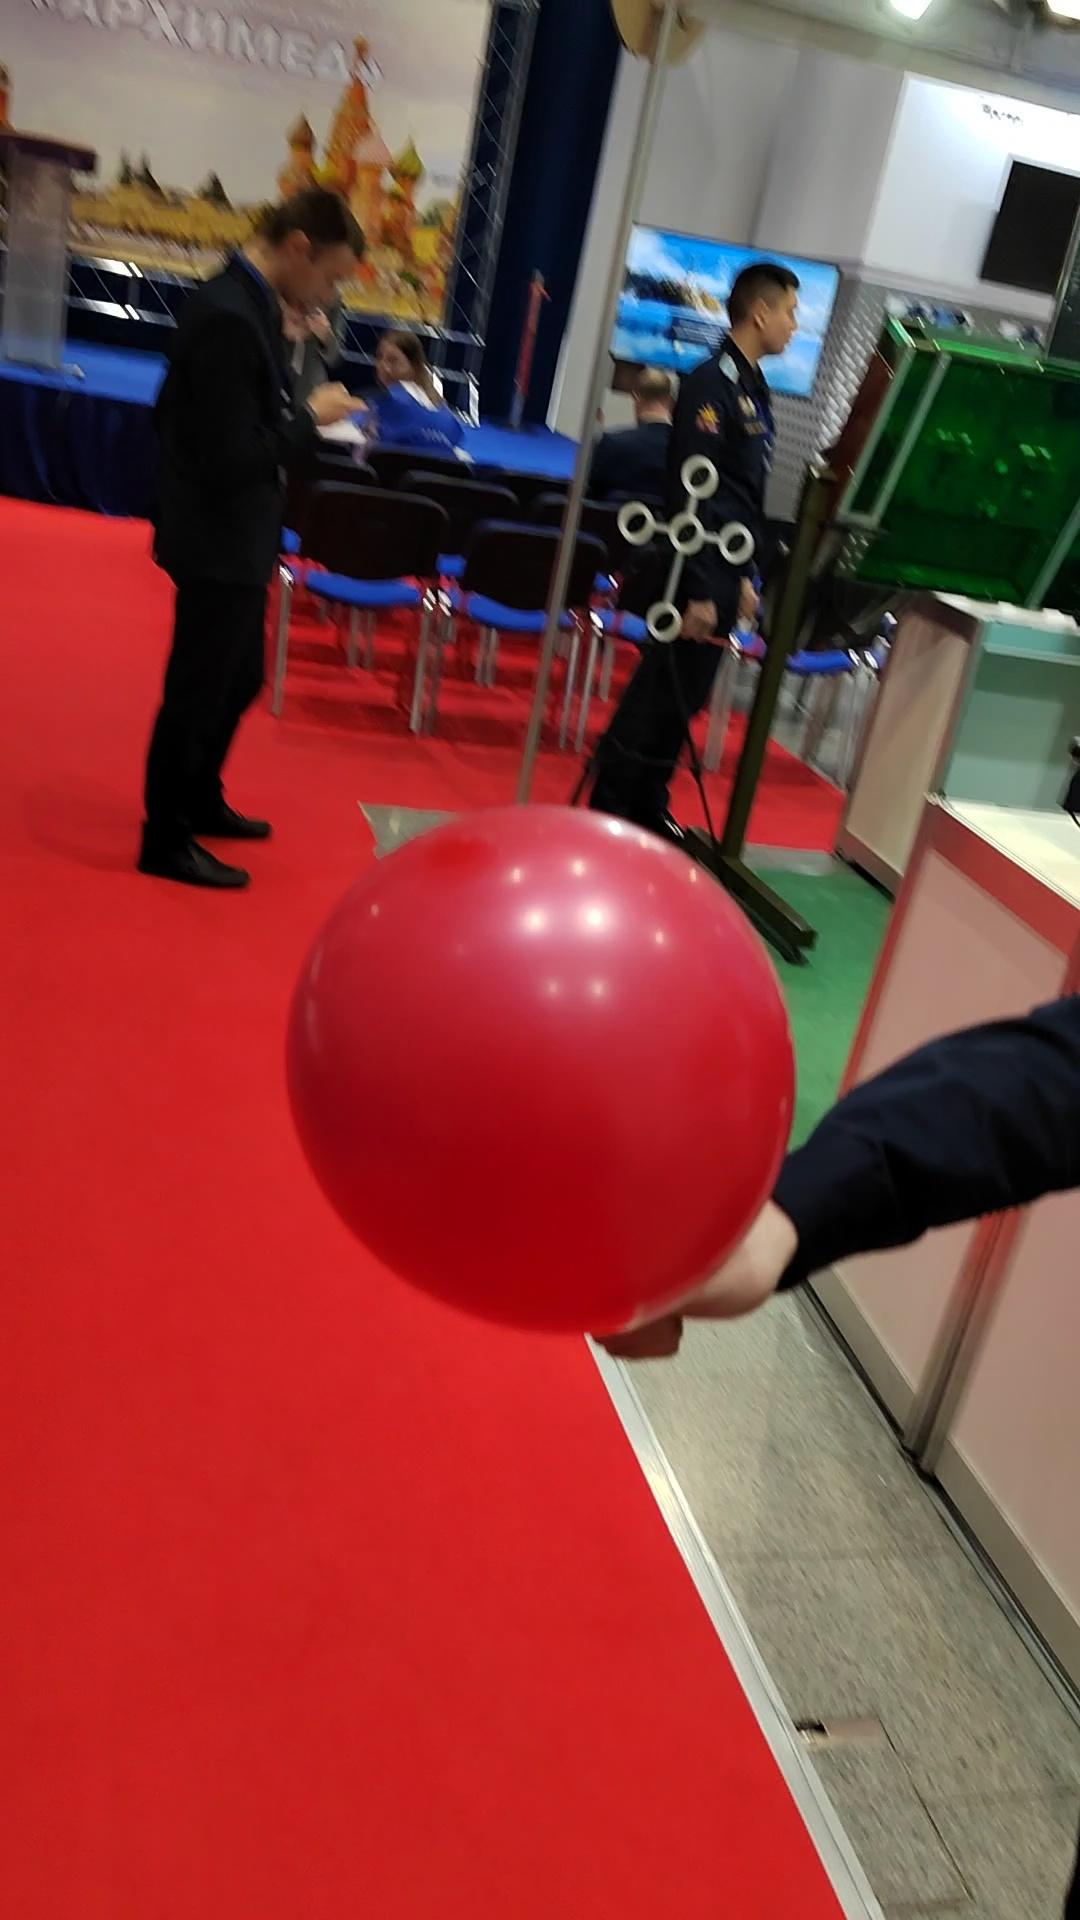red: (284, 806, 798, 1344)
